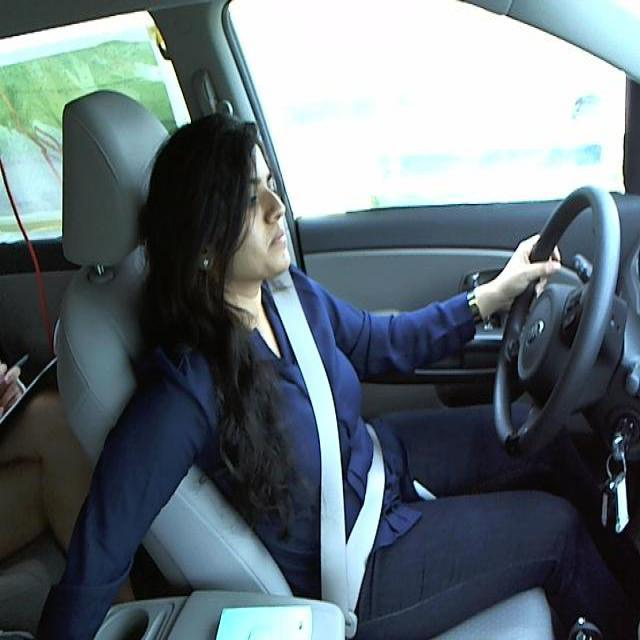seatbelt: (275, 286, 395, 598)
